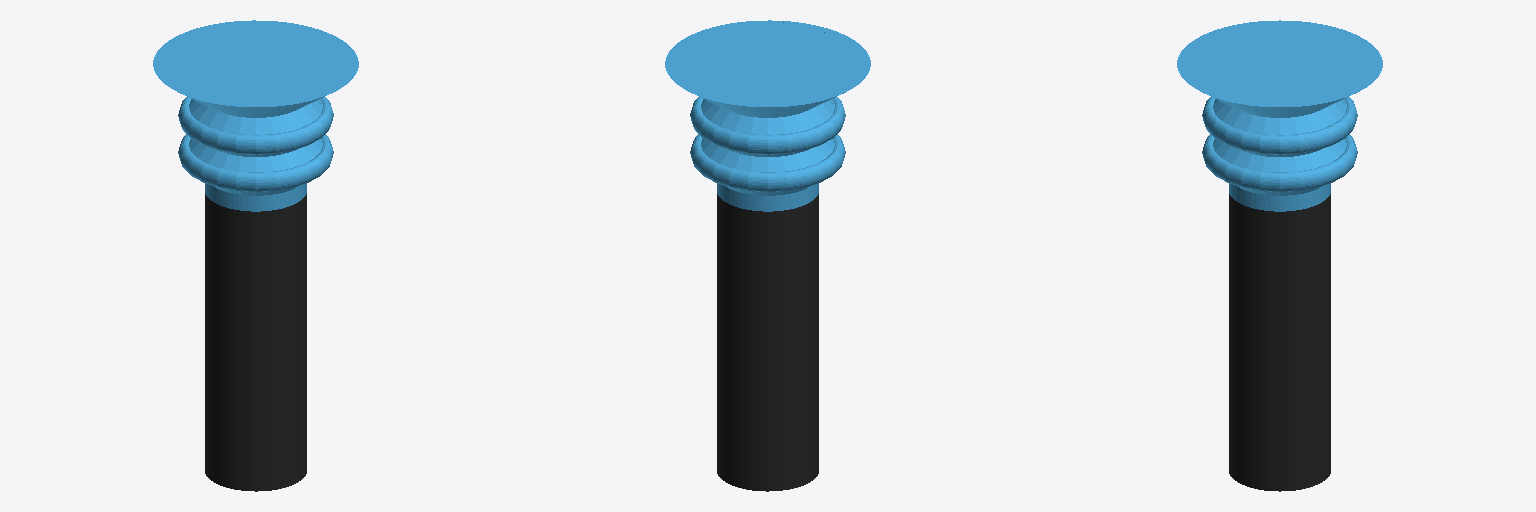
URDF robot description (suction-head.urdf):
<?xml version="0.0" ?>
<robot name="suction-head.urdf">
  <link name="headLink">
    <contact>
      <lateral_friction value="1.0"/>
      <rolling_friction value="0.0001"/>
      <inertia_scaling value="3.0"/>
    </contact>
    <inertial>
      <origin rpy="0 0 0" xyz="0 0 0"/>
       <mass value=".1"/>
       <inertia ixx="1" ixy="0" ixz="0" iyy="1" iyz="0" izz="1"/>
    </inertial>
    <visual>
      <origin rpy="0 0 0" xyz="0 0 0"/>
      <geometry>
        <mesh filename="head.obj" scale="0.001 0.001 0.001"/>
      </geometry>
      <material name="darkgrey">
        <color rgba="0.2 0.2 0.2 1"/>
      </material>
    </visual>
    <collision>
      <origin rpy="0 0 0" xyz="0 0 0"/>
      <geometry>
        <mesh filename="head.obj" scale="0.001 0.001 0.001"/>
      </geometry>
    </collision>
  </link>

  <joint name="tipJoint" type="fixed">
    <parent link="headLink"/>
    <child link="tipLink"/>
    <origin rpy="0.0 0.0 0.0" xyz="0.0 0.0 0.029"/>
    <axis xyz="0 0 1"/>
    <limit effort="150.0" lower="-6.28318530718" upper="6.28318530718" velocity="3.15"/>
    <dynamics damping="10.0" friction="0.0"/>
  </joint>

  <link name="tipLink">
    <contact>
      <lateral_friction value="1.0"/>
      <rolling_friction value="0.0001"/>
      <inertia_scaling value="3.0"/>
    </contact>
    <inertial>
      <origin rpy="0 0 0" xyz="0 0 0"/>
       <mass value=".1"/>
       <inertia ixx="1" ixy="0" ixz="0" iyy="1" iyz="0" izz="1"/>
    </inertial>
    <visual>
      <origin rpy="0 0 0" xyz="0 0 0"/>
      <geometry>
        <mesh filename="tip.obj" scale="0.001 0.001 0.001"/>
      </geometry>
      <material name="blue">
        <color rgba="0.18039216, 0.50588235, 0.77254902 1"/>
      </material>
    </visual>
    <collision>
      <origin rpy="0 0 0" xyz="0 0 0"/>
      <!-- <geometry>
        <mesh filename="tip.obj" scale="0.001 0.001 0.001"/>
      </geometry> -->
      <geometry>
        <cylinder length="0.028" radius="0.001"/>
      </geometry>
    </collision>
  </link>

  <!-- <link name="asdfLink">
    <contact>
      <lateral_friction value="1.0"/>
      <rolling_friction value="0.0001"/>
      <inertia_scaling value="3.0"/>
    </contact>
    <inertial>
      <origin rpy="0 0 0" xyz="0 0 0"/>
       <mass value=".1"/>
       <inertia ixx="1" ixy="0" ixz="0" iyy="1" iyz="0" izz="1"/>
    </inertial>
    <visual>
      <origin rpy="0 0 0" xyz="0 0 0"/>
      <geometry>
        <cylinder length="0.028" radius="0.001"/>
      </geometry>
    </visual>
  </link>

  <joint name="asdfoint" type="fixed">
    <parent link="tipLink"/>
    <child link="asdfLink"/>
    <origin rpy="0.0 0.0 0.0" xyz="0.0 0.0 0.0"/>
    <axis xyz="0 0 1"/>
    <limit effort="150.0" lower="-6.28318530718" upper="6.28318530718" velocity="3.15"/>
    <dynamics damping="10.0" friction="0.0"/>
  </joint> -->


</robot>

--- What the picture shows (computed from the rendered views, not written in the file) ---
The picture shows the robot from 3 angles, left to right: view 1: azimuth 30°, elevation 25°; view 2: azimuth 150°, elevation 25°; view 3: azimuth 270°, elevation 25°; orthographic projection.
Model suction-head.urdf with 2 links and 1 joints (1 fixed), rooted at headLink, posed every joint at zero.
Links seen in each view (by area): view 1: headLink, tipLink; view 2: headLink, tipLink; view 3: headLink, tipLink.
Boxes of the visible links, x1=… form: headLink: x1=205, y1=194, x2=306, y2=491; tipLink: x1=153, y1=20, x2=358, y2=211; headLink: x1=717, y1=194, x2=818, y2=491; tipLink: x1=665, y1=20, x2=870, y2=211; headLink: x1=1229, y1=194, x2=1330, y2=491; tipLink: x1=1177, y1=20, x2=1382, y2=211.
Size in the robot's own frame: 0.02 by 0.02 by 0.0435 metres.
2 mesh visuals loaded from 2 distinct referenced files (2 OBJ).